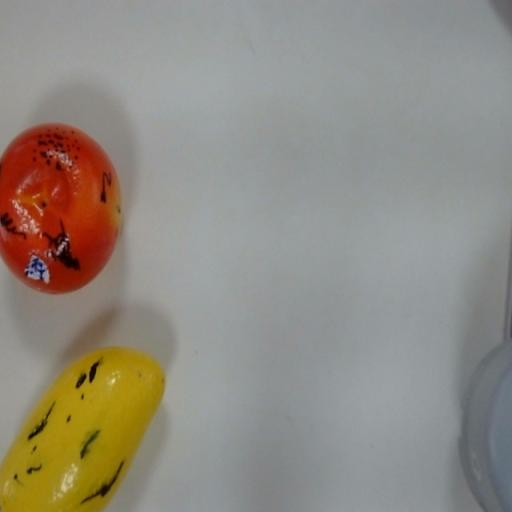Defective: (2, 338, 173, 512), (0, 113, 126, 303)
